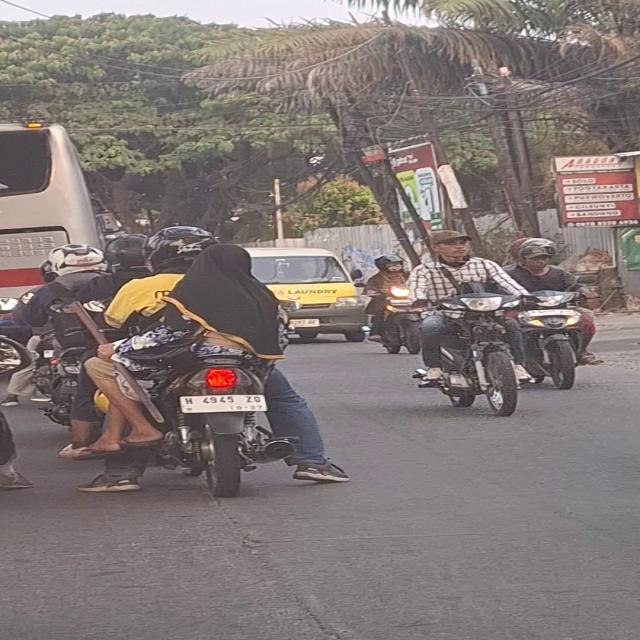WithHelmet: (76, 226, 351, 495), (0, 244, 125, 408), (360, 255, 415, 344), (103, 233, 152, 293)
WithoutHelmet: (403, 226, 536, 418), (502, 235, 607, 376), (188, 242, 291, 361)
